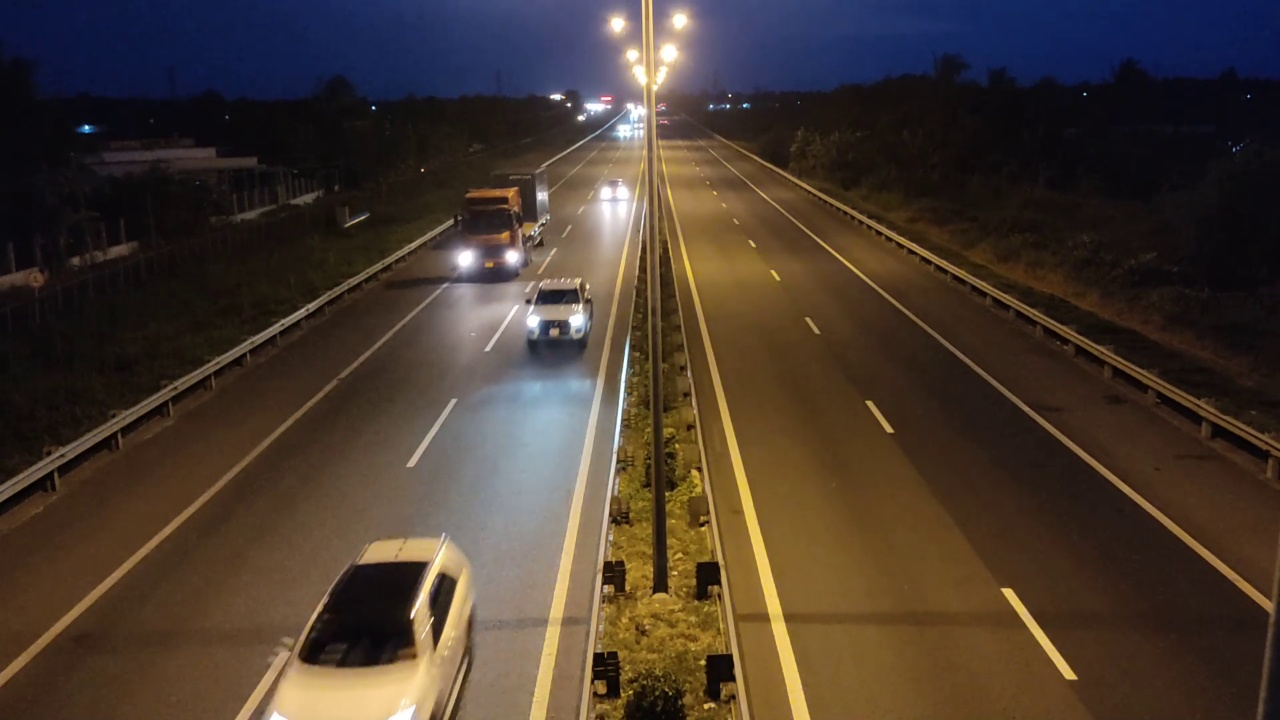car: (251, 533, 477, 718), (523, 277, 595, 356)
truck: (448, 166, 549, 282)
